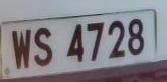2: (103, 16, 128, 61)
4: (65, 21, 88, 68)
7: (85, 18, 108, 64)
8: (125, 13, 148, 57)
S: (30, 22, 56, 75)
W: (9, 23, 33, 76)
